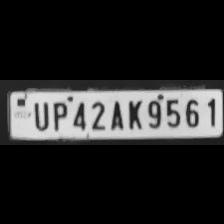1: (202, 94, 220, 128)
2: (88, 97, 106, 129)
4: (69, 97, 87, 130)
5: (162, 95, 180, 127)
6: (182, 95, 200, 127)
9: (144, 96, 162, 128)
A: (107, 97, 123, 129)
K: (124, 96, 142, 130)
P: (49, 98, 67, 130)
U: (31, 98, 50, 130)
